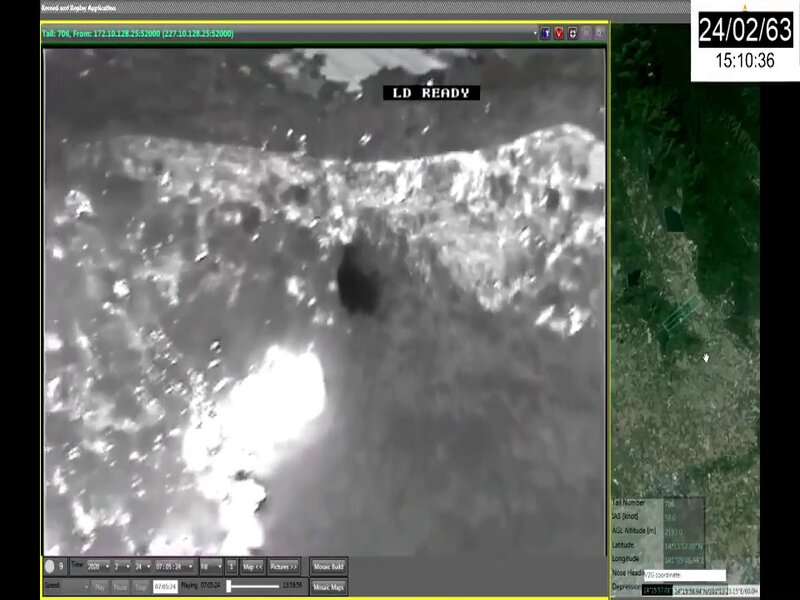Fire: (146, 343, 327, 555)
